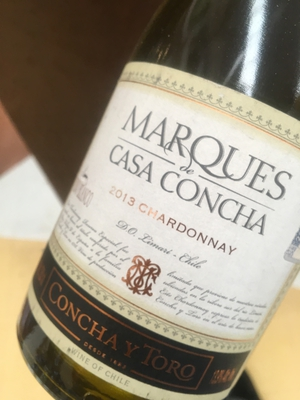marques de casa concha chardonnay: (20, 47, 300, 395)
